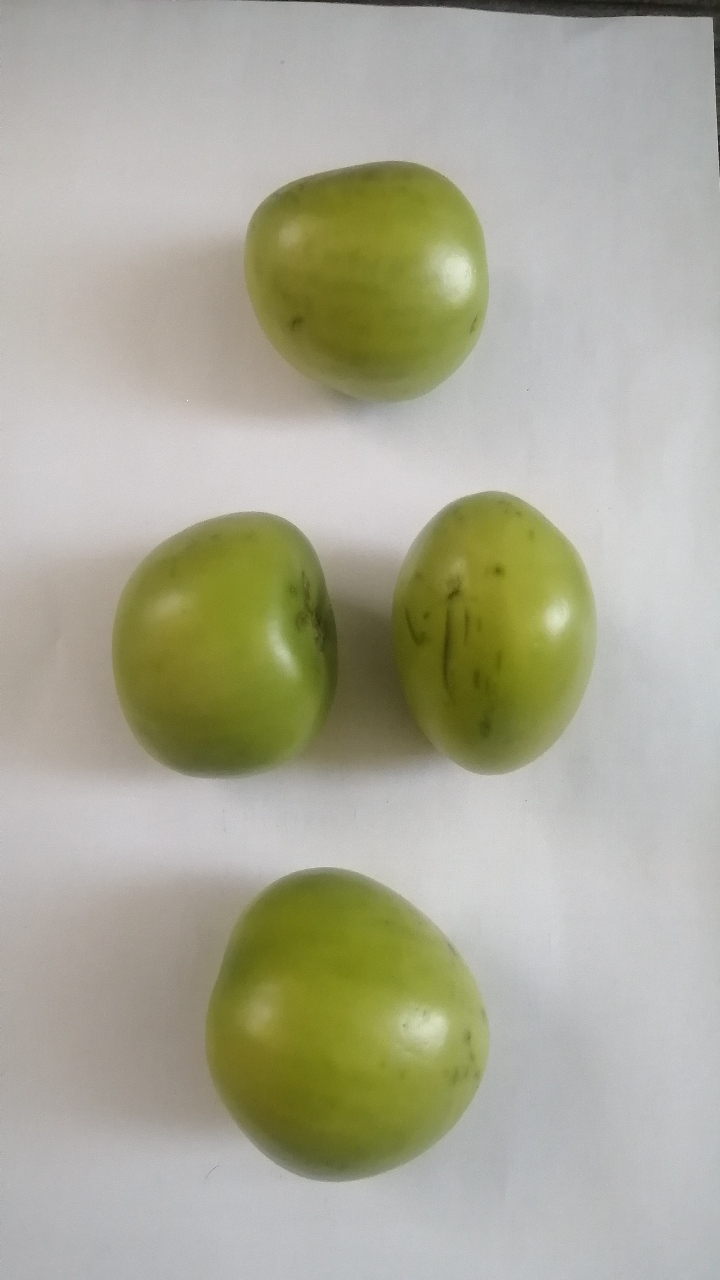tomateVerde: (177, 839, 509, 1203), (92, 483, 358, 806), (224, 125, 498, 403), (372, 463, 606, 783)
